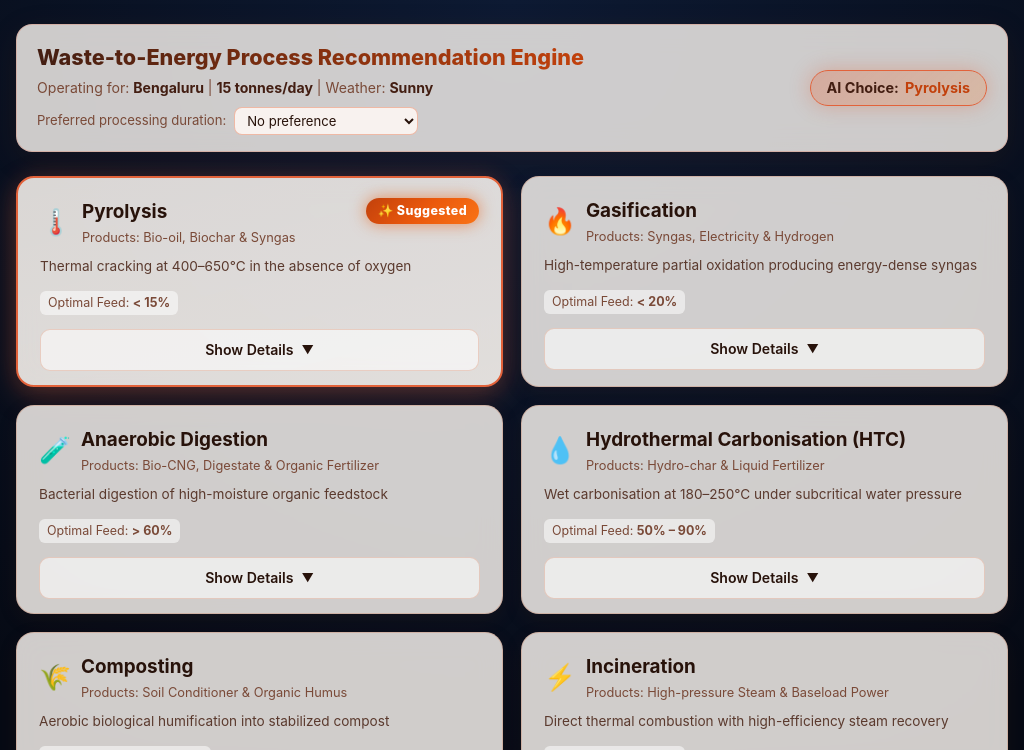
it: ProcessSelector Component › fetches process details on-demand and caches the result
Check: the text "✨ Suggested" is shown, box [366,198,479,224]
Note: Click Show Details on the first process (Pyrolysis)
Click the button "Show Details ▼" below "Bio-oil, Biochar & Syngas" at [260, 350], box [40,329,479,370]
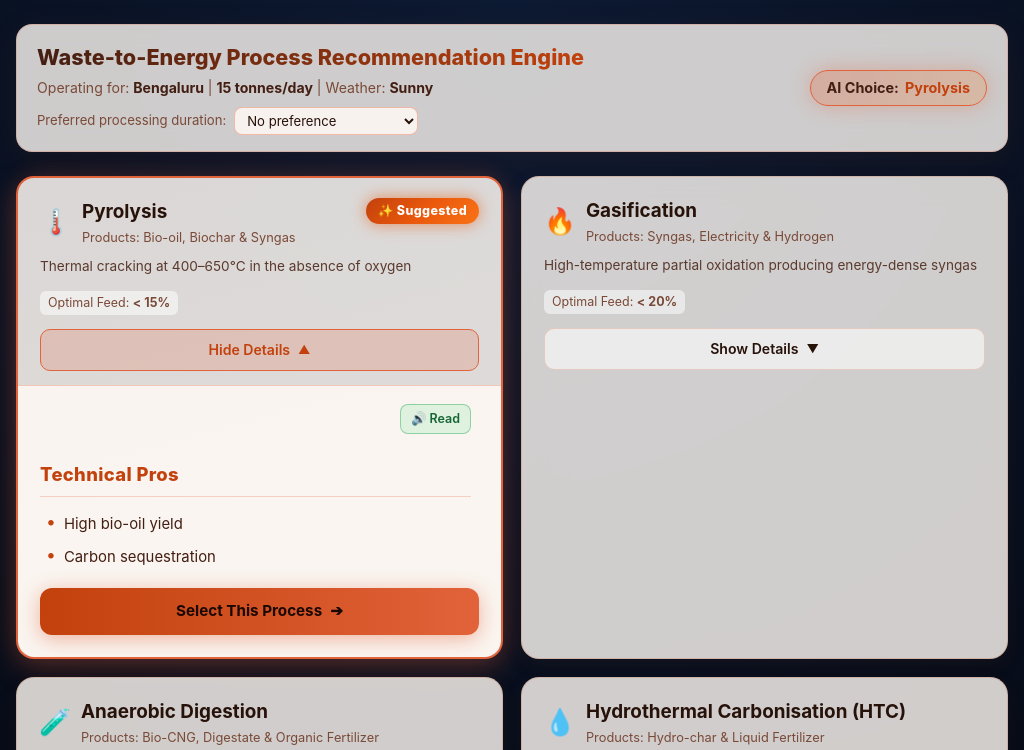
Check: the heading "Technical Pros" is shown, box [40,460,471,497]
Check: the text "High bio-oil yield" is shown, box [64,513,183,536]
Note: Toggle close
Click the button "Hide Details ▲" at [260, 350], box [40,329,479,370]
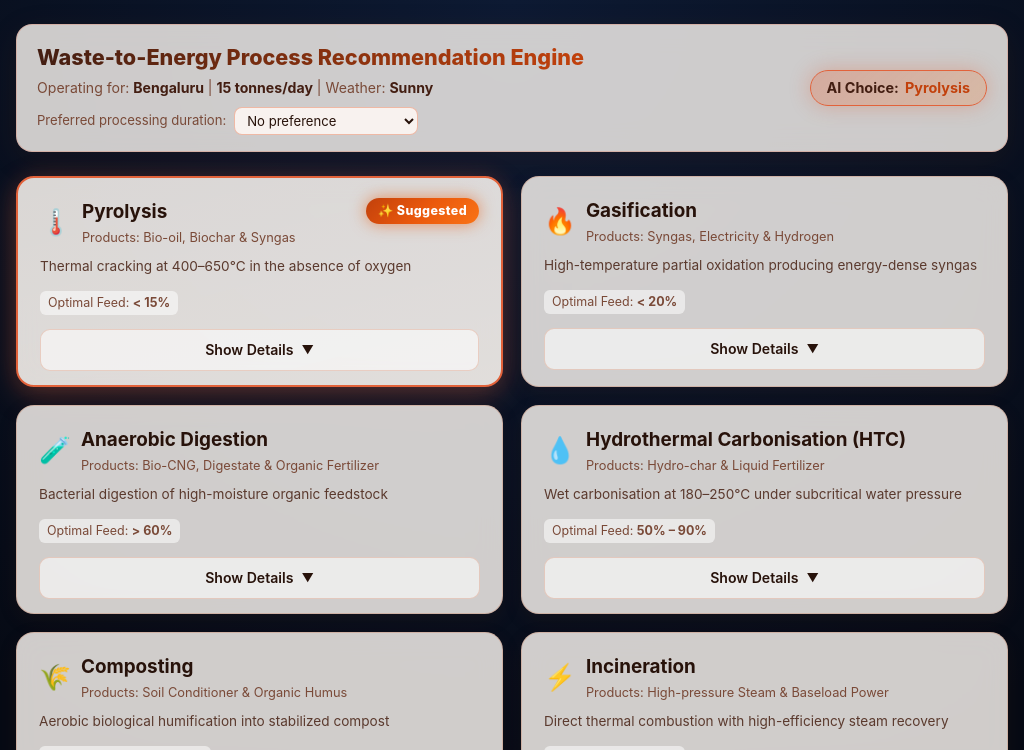
Note: Toggle open again - should use detailsCache without firing another network request
Click the button "Show Details ▼" below "Bio-oil, Biochar & Syngas" at [260, 350], box [40,329,479,370]
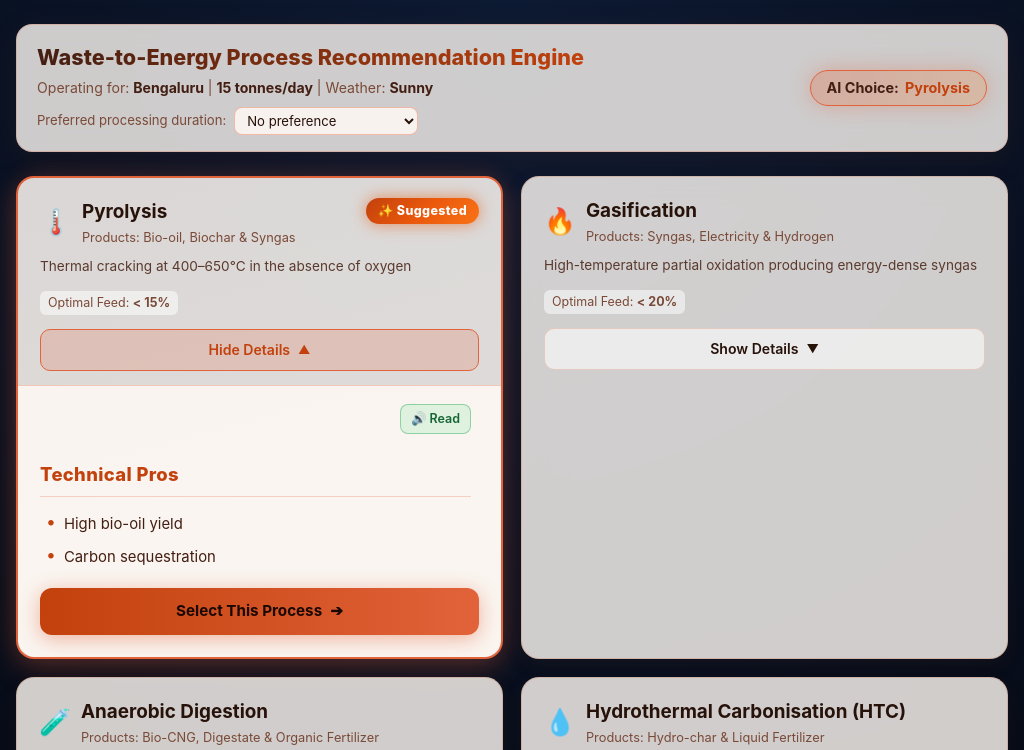
Check: the heading "Technical Pros" is shown, box [40,460,471,497]
